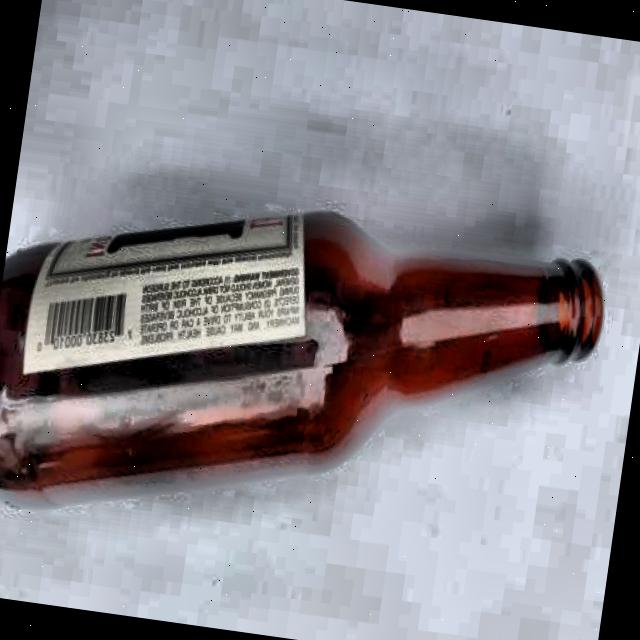glass: (0, 161, 617, 592)
